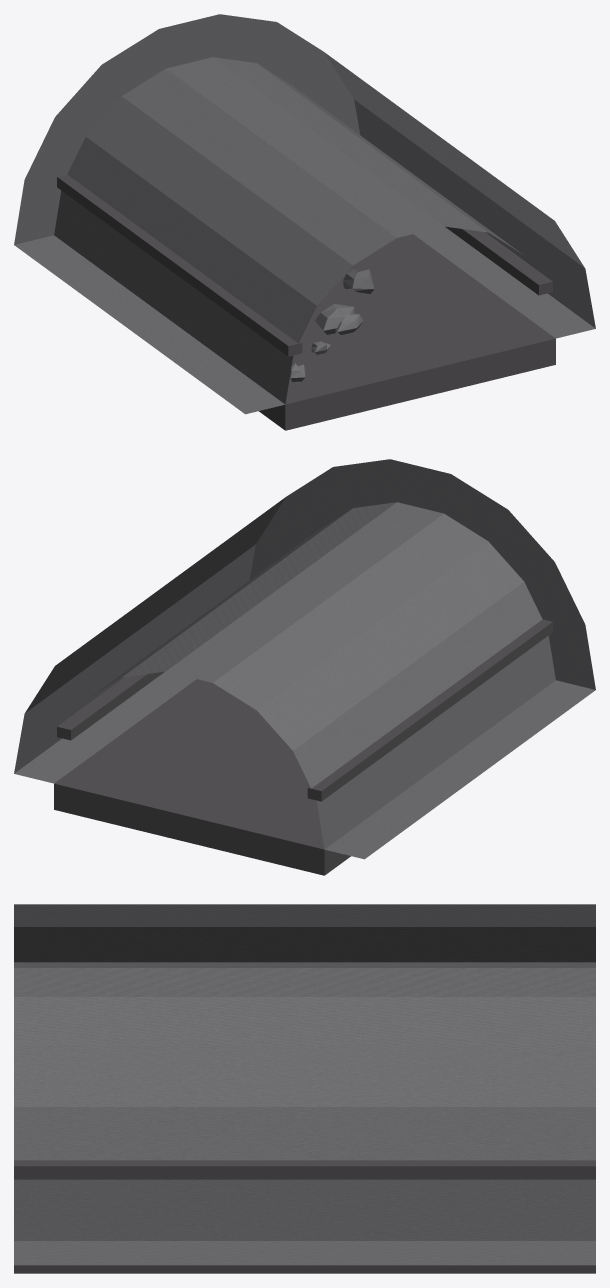
Rendered from volcano-and-lava-fields-volcano-and-lava-fields-lava-t-e8ffbc55__37453.glb.
3 renders of one model, top to bottom at view 1: azimuth 30°, elevation 25°; view 2: azimuth 150°, elevation 25°; view 3: azimuth 270°, elevation 25°, orthographic. The views are drawn at different scales.
Visible parts, largest first — view 1: volcano-and-lava-fields-lava-tube-interior-section; view 2: volcano-and-lava-fields-lava-tube-interior-section; view 3: volcano-and-lava-fields-lava-tube-interior-section.
Part boxes in pixels (x1,y1,x2,y2): volcano-and-lava-fields-lava-tube-interior-section: (14, 14, 595, 430); volcano-and-lava-fields-lava-tube-interior-section: (14, 459, 595, 875); volcano-and-lava-fields-lava-tube-interior-section: (14, 904, 595, 1273).
Size of the model in its own units: 3.5 by 1.97 by 4.
Materials: 2 (1 with a texture image).
